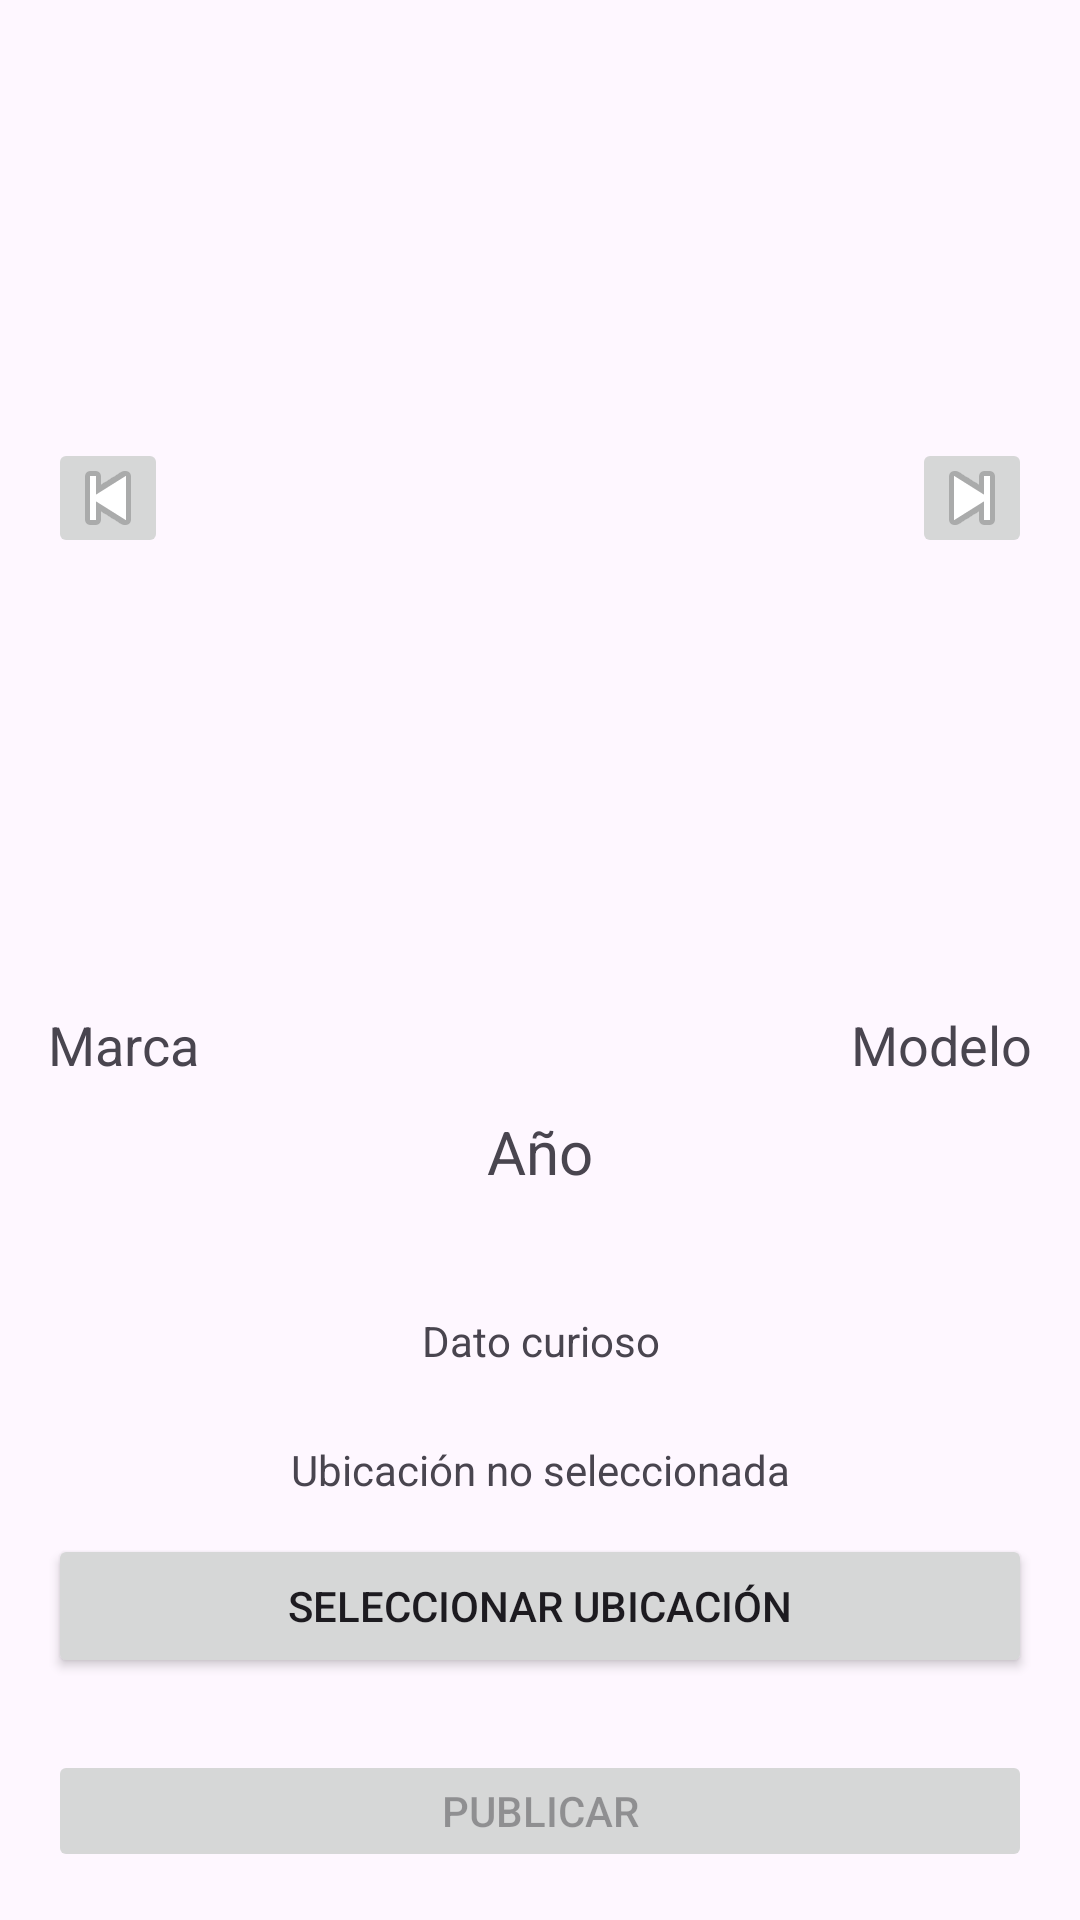

Where to tap for icons on this 1080×1920 app screen, as (x,y):
next: (972,498)
previous: (108,498)
